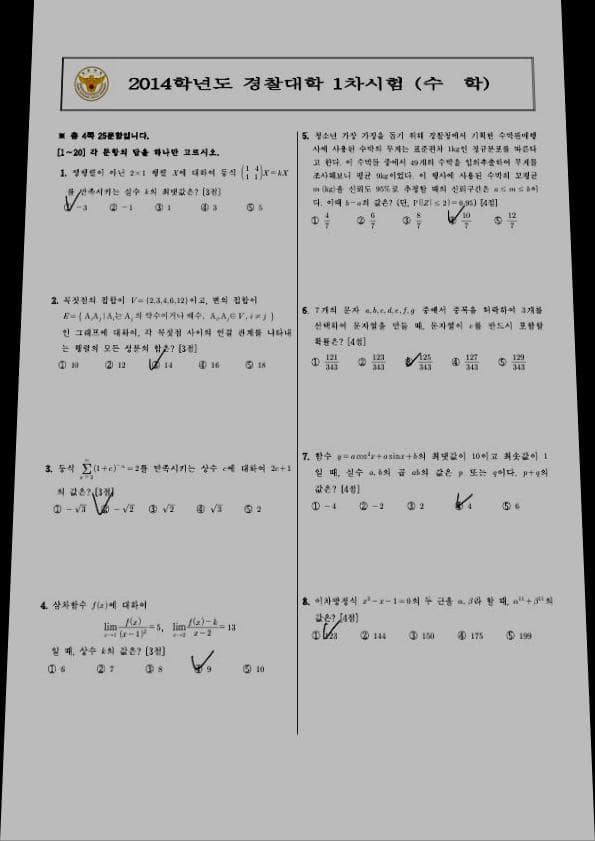question: (299, 121, 544, 237), (31, 590, 273, 685), (42, 288, 294, 377), (296, 442, 558, 522), (296, 299, 552, 380), (37, 453, 296, 526), (300, 585, 561, 654), (46, 158, 294, 226)
